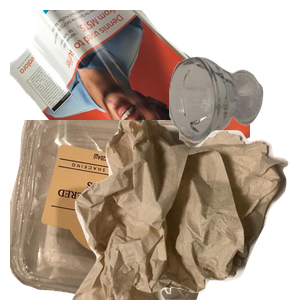glass: (166, 54, 300, 189)
paper: (10, 10, 250, 190)
plastic: (10, 120, 227, 300)
trash: (70, 120, 300, 300)
